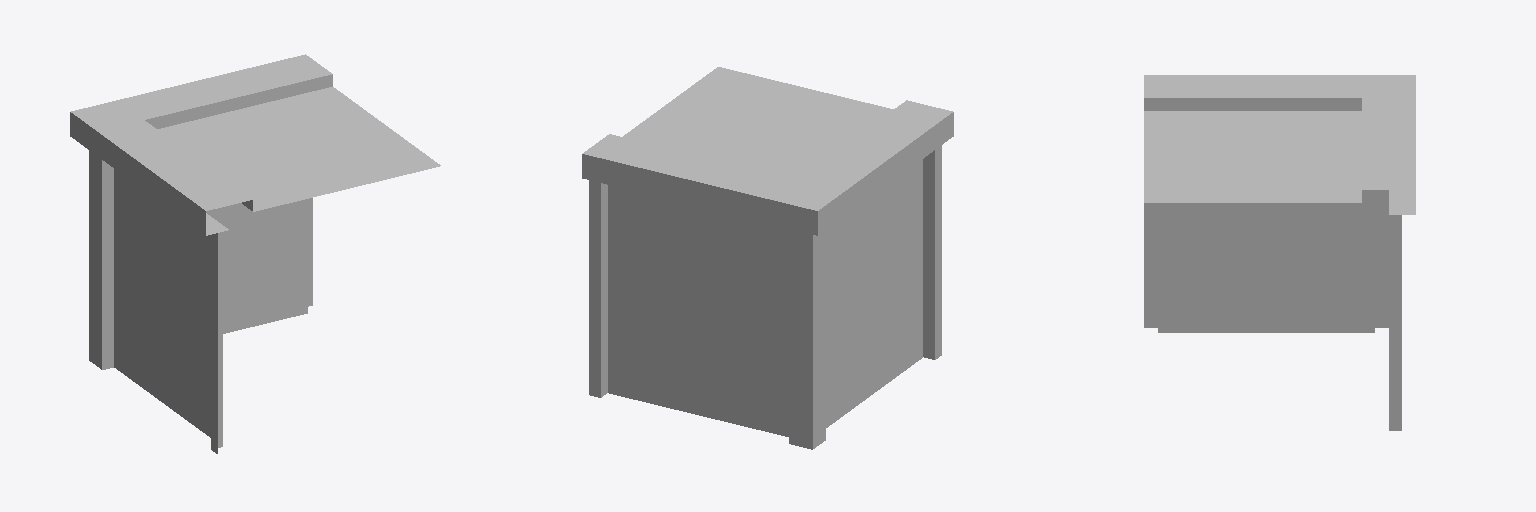
Rendered from Outer_Corner_Wall_Roof_Outer_Corner.obj.
3 views of the same model, side by side, from view 1: azimuth 30°, elevation 25°; view 2: azimuth 150°, elevation 25°; view 3: azimuth 270°, elevation 25° (orthographic).
Parts seen in each view (by area): view 1: Outer_Corner_Wall_Roof_Outer_Corner; view 2: Outer_Corner_Wall_Roof_Outer_Corner; view 3: Outer_Corner_Wall_Roof_Outer_Corner.
Part boxes in pixels (left/top/right/bottom): Outer_Corner_Wall_Roof_Outer_Corner: left=70, top=54, right=440, bottom=453; Outer_Corner_Wall_Roof_Outer_Corner: left=582, top=67, right=953, bottom=449; Outer_Corner_Wall_Roof_Outer_Corner: left=1144, top=75, right=1415, bottom=430.
Bounding box in the file's own units: 1 × 1 × 1.